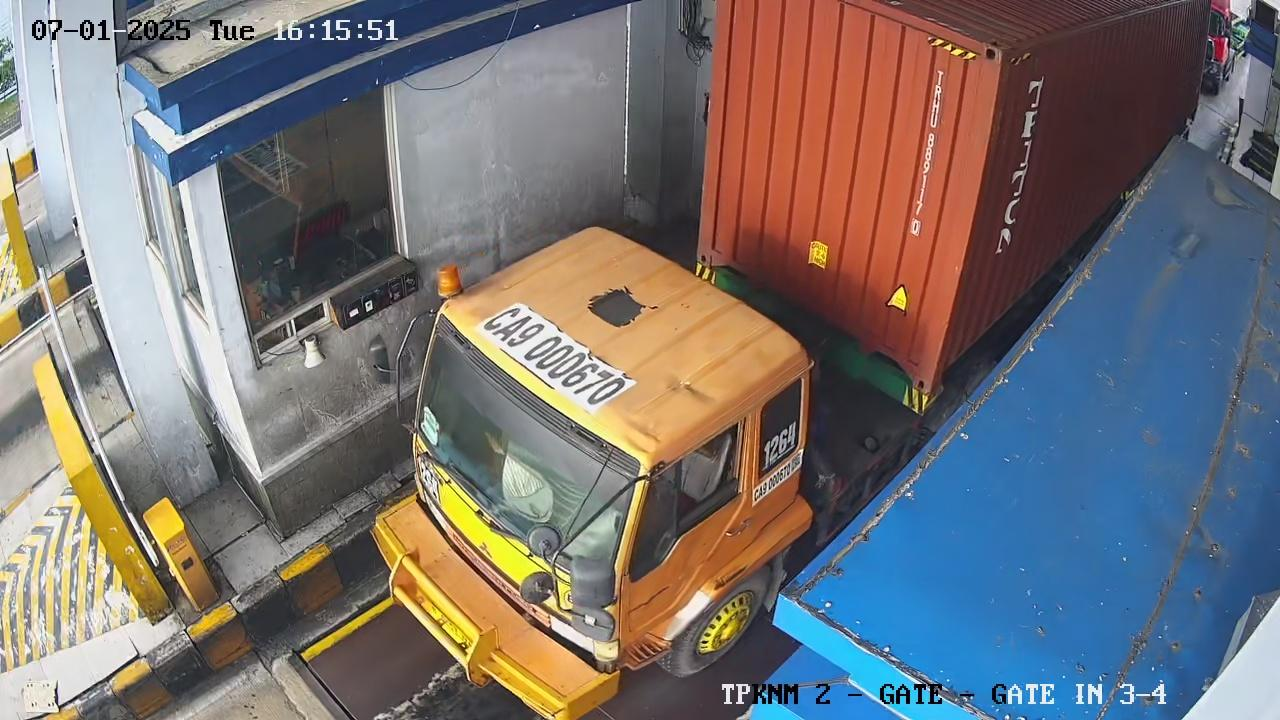Container_ID_Vertikal: (900, 48, 967, 237)
truck_id: (470, 296, 649, 425), (752, 448, 804, 510)
